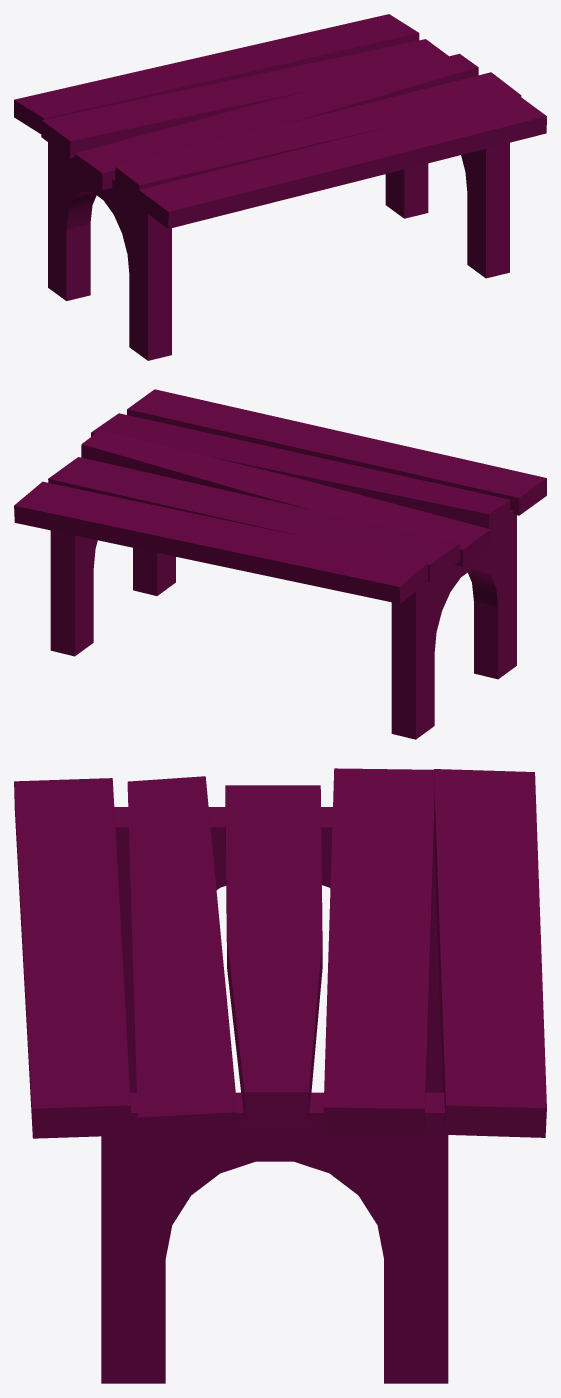
The model's file is MY_Desk2.fbx.
The picture shows the model from 3 angles, top to bottom: view 1: azimuth 30°, elevation 25°; view 2: azimuth 150°, elevation 25°; view 3: azimuth 270°, elevation 25°; orthographic projection. The views are drawn at different scales.
Parts seen in each view (by area): view 1: MY_Desk2; view 2: MY_Desk2; view 3: MY_Desk2.
Boxes of the visible parts, <box> form: MY_Desk2: <box>14,14,546,360</box>; MY_Desk2: <box>14,389,546,739</box>; MY_Desk2: <box>14,768,546,1383</box>.
Size of the model in its own units: 145 by 60.99 by 97.66.
